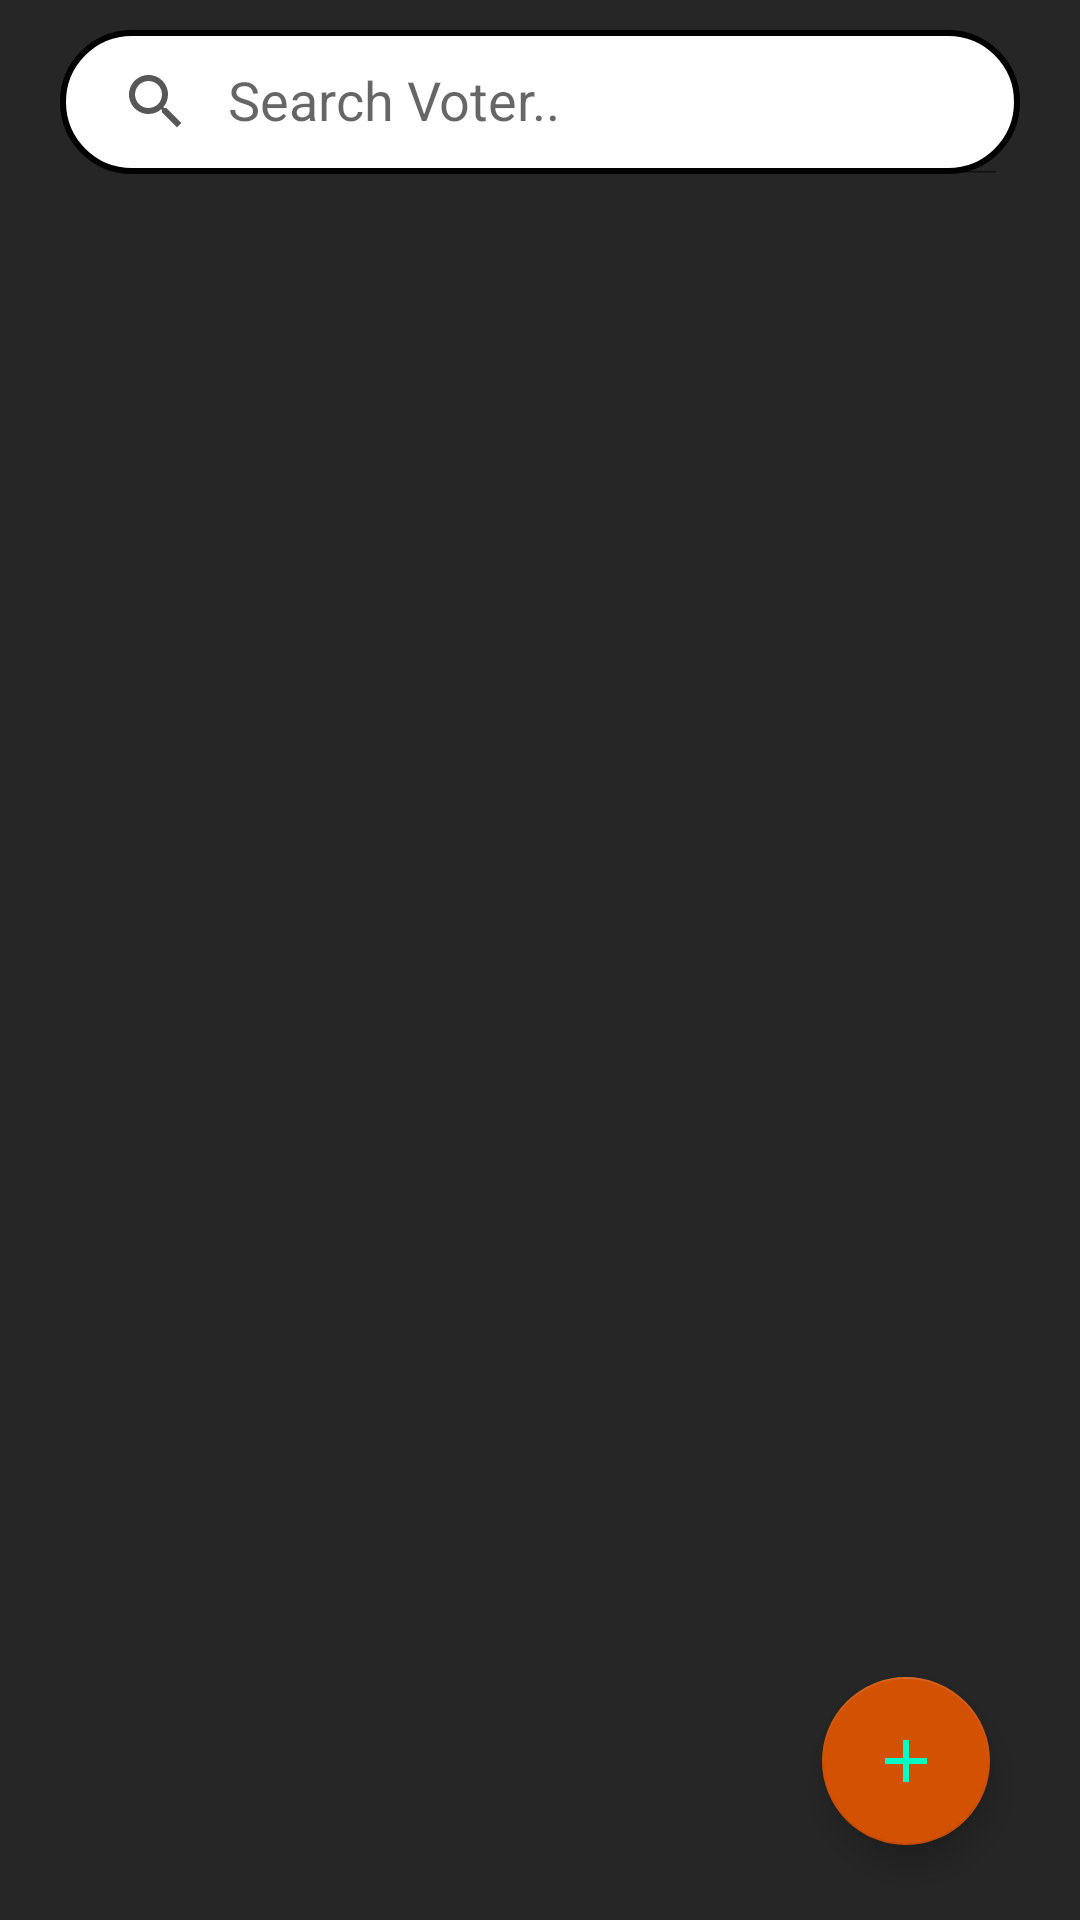

Point at icon controls on the screen. Image size 1080 × 1920, points as (x=x, y=y).
add: (x=906, y=1761)
